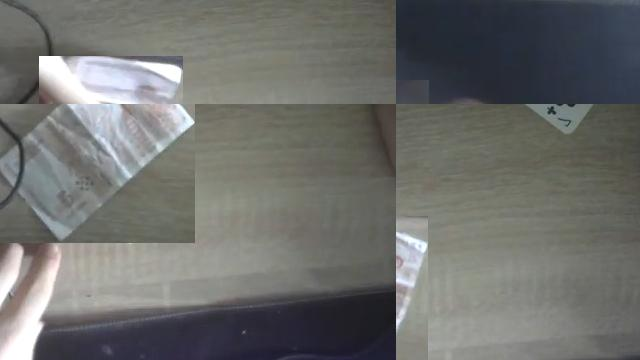5leva: (0, 104, 195, 243), (67, 56, 183, 104)
